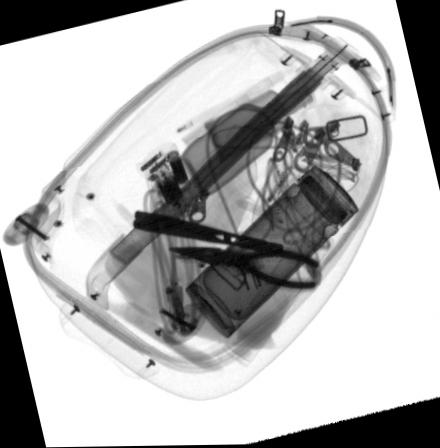Pliers: (167, 247, 319, 289)
